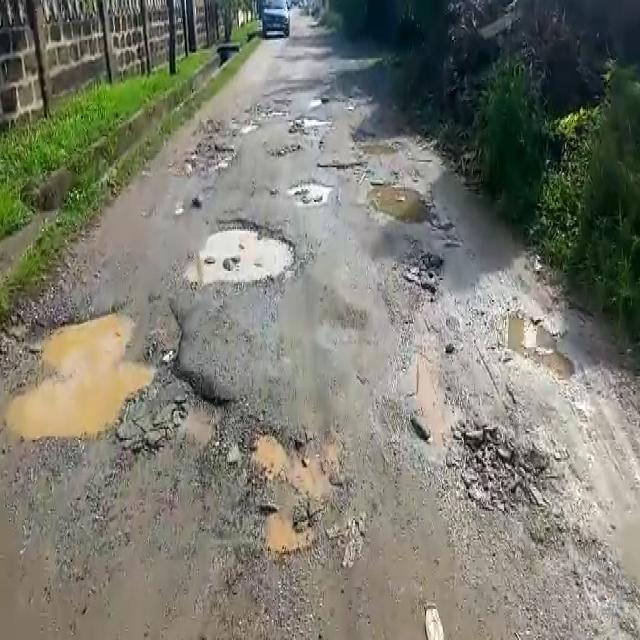Pothole: (3, 299, 238, 450), (228, 424, 353, 562), (452, 423, 557, 518), (181, 214, 303, 288), (486, 304, 577, 387), (367, 181, 436, 229), (174, 134, 236, 184), (392, 248, 442, 302), (288, 179, 331, 206), (312, 157, 365, 172)
